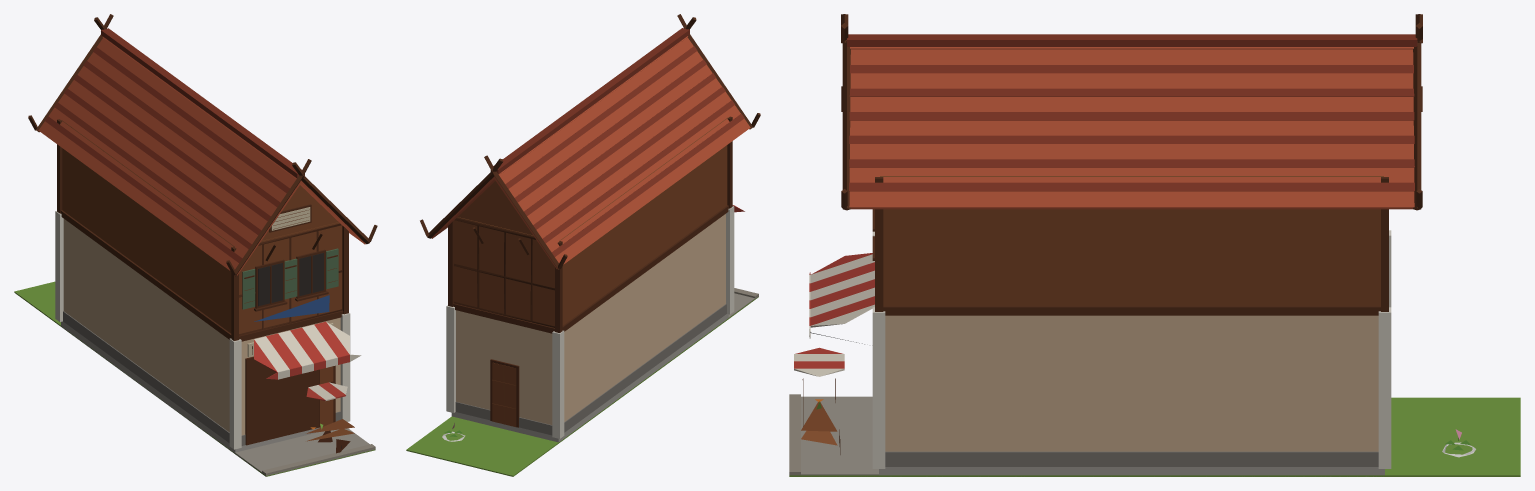
File: bay1_mid.glb
The picture shows the model from 3 angles, left to right: view 1: azimuth 30°, elevation 25°; view 2: azimuth 150°, elevation 25°; view 3: azimuth 270°, elevation 25°; orthographic projection. The views are drawn at different scales.
Visible parts, largest first — view 1: body, windows; view 2: body; view 3: body.
Boxes of the visible parts, bbox=[...] form: body: bbox=[14, 14, 377, 476]; windows: bbox=[258, 253, 323, 306]; body: bbox=[406, 14, 760, 476]; body: bbox=[789, 14, 1520, 476].
Size of the model in its own units: 5.52 by 10.08 by 15.9.
